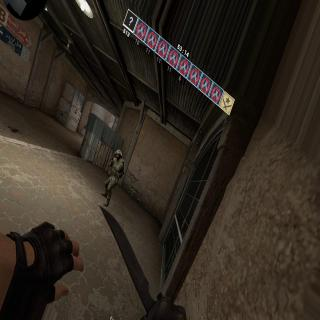CT-Body: (104, 147, 124, 204)
CT-Head: (114, 148, 122, 160)
